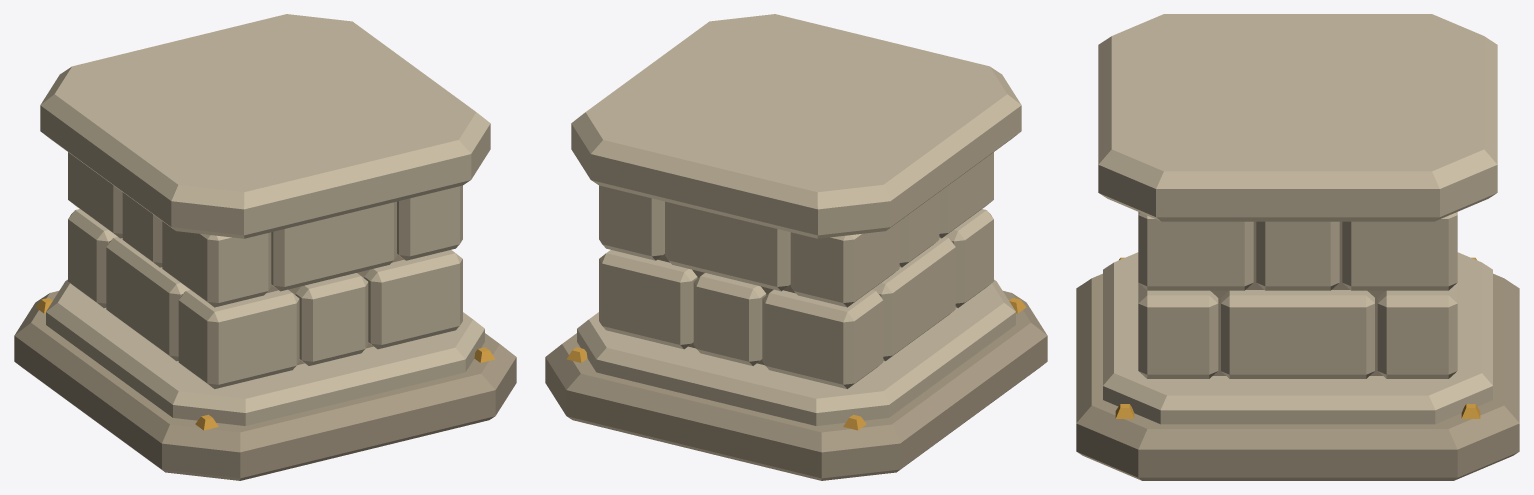
Rendered from HarpoonBase.obj.
The picture shows the model from 3 angles, left to right: view 1: azimuth 30°, elevation 25°; view 2: azimuth 150°, elevation 25°; view 3: azimuth 270°, elevation 25°; orthographic projection. The views are drawn at different scales.
Visible parts, largest first — view 1: HarpoonBase; view 2: HarpoonBase; view 3: HarpoonBase.
Part boxes in pixels (x1,y1,x2,y2): HarpoonBase: (14, 14, 516, 480); HarpoonBase: (545, 14, 1047, 480); HarpoonBase: (1076, 14, 1519, 480).
Bounding box in the file's own units: 1 × 0.74 × 1.
